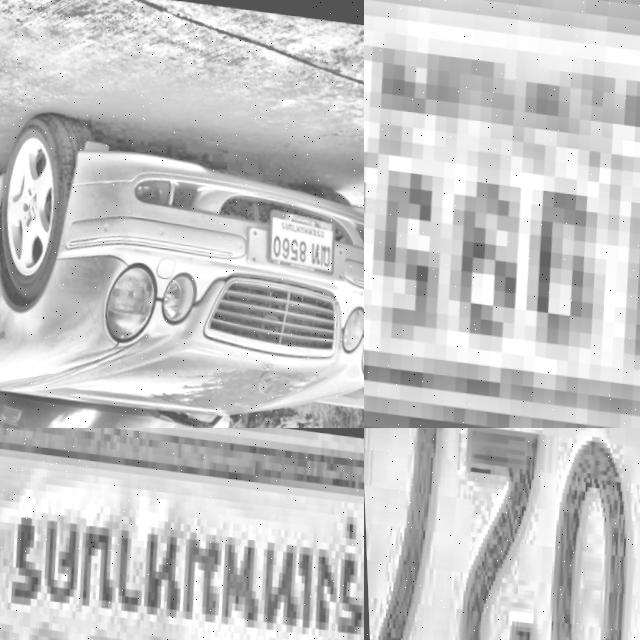license-plate: (364, 0, 640, 428), (0, 428, 364, 640), (364, 428, 640, 640), (261, 198, 335, 273)
